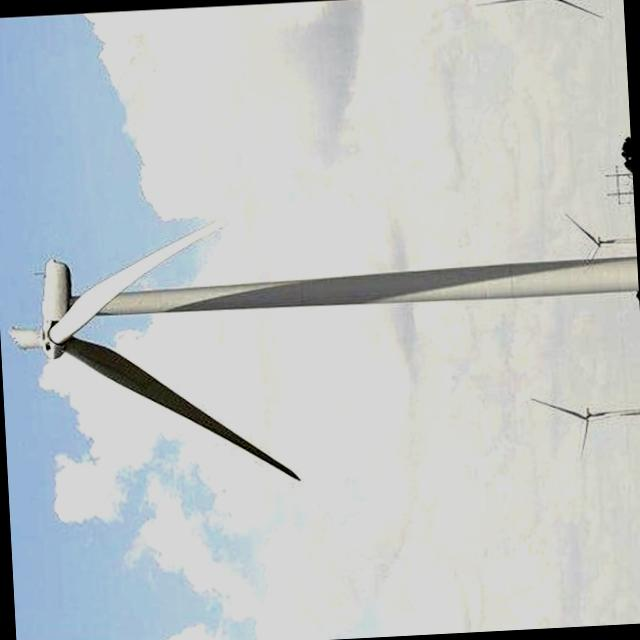crack: (0, 305, 42, 368)
